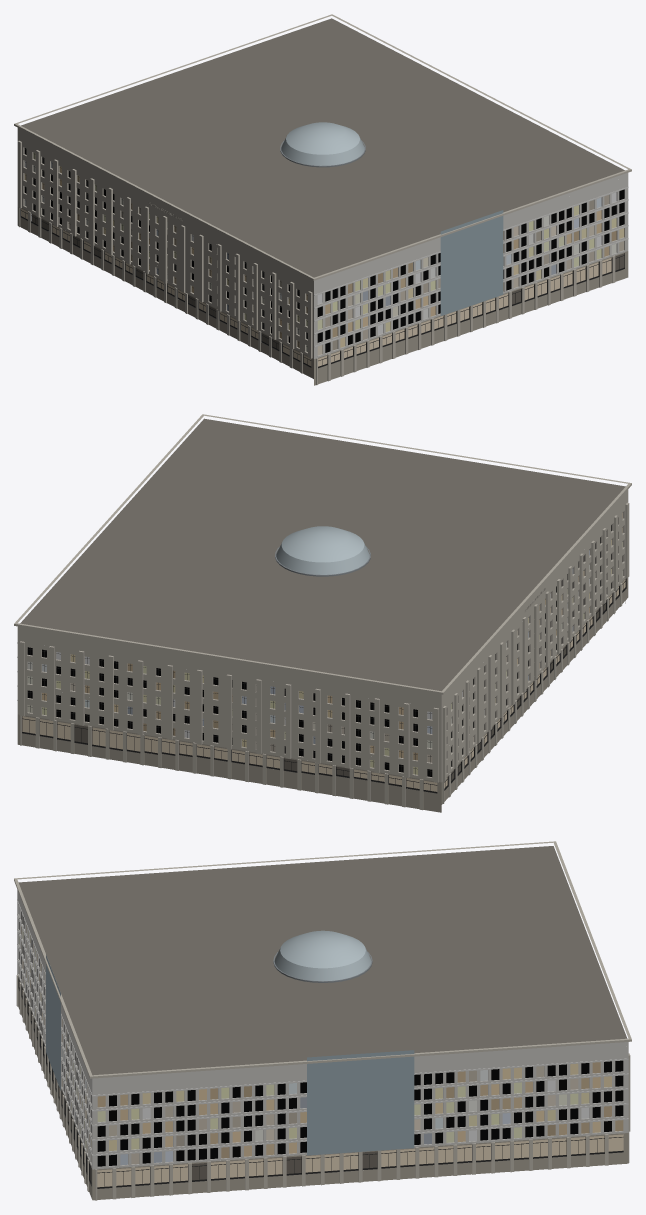
Rendered from library_lod0.glb.
3 views of the same model, one above another, from view 1: azimuth 30°, elevation 25°; view 2: azimuth 150°, elevation 25°; view 3: azimuth 270°, elevation 25° (orthographic). The views are drawn at different scales.
Visible parts, largest first — view 1: L0_roof, L0_granite, L0_concrete, L0_win, L0_glassc, L0_shop, L0_metal; view 2: L0_roof, L0_granite, L0_win, L0_shop, L0_metal, L0_glassc; view 3: L0_roof, L0_concrete, L0_win, L0_granite, L0_glassc, L0_shop, L0_metal.
Part boxes in pixels (left/top/right/bottom): L0_roof: left=21, top=18, right=624, bottom=277; L0_granite: left=14, top=14, right=631, bottom=385; L0_concrete: left=314, top=173, right=628, bottom=358; L0_win: left=24, top=148, right=624, bottom=355; L0_glassc: left=281, top=122, right=503, bottom=315; L0_shop: left=21, top=208, right=624, bottom=366; L0_metal: left=20, top=140, right=624, bottom=368; L0_roof: left=20, top=418, right=625, bottom=691; L0_granite: left=14, top=414, right=631, bottom=812; L0_win: left=27, top=513, right=622, bottom=776; L0_shop: left=22, top=579, right=625, bottom=791; L0_metal: left=22, top=525, right=626, bottom=793; L0_glassc: left=276, top=526, right=369, bottom=574; L0_roof: left=18, top=846, right=627, bottom=1075; L0_concrete: left=17, top=890, right=628, bottom=1169; L0_win: left=19, top=907, right=623, bottom=1166; L0_granite: left=14, top=841, right=631, bottom=1200; L0_glassc: left=46, top=930, right=414, bottom=1155; L0_shop: left=19, top=981, right=623, bottom=1187; L0_metal: left=18, top=952, right=623, bottom=1188.
Bounding box in the file's own units: 149 × 43.29 × 166.
